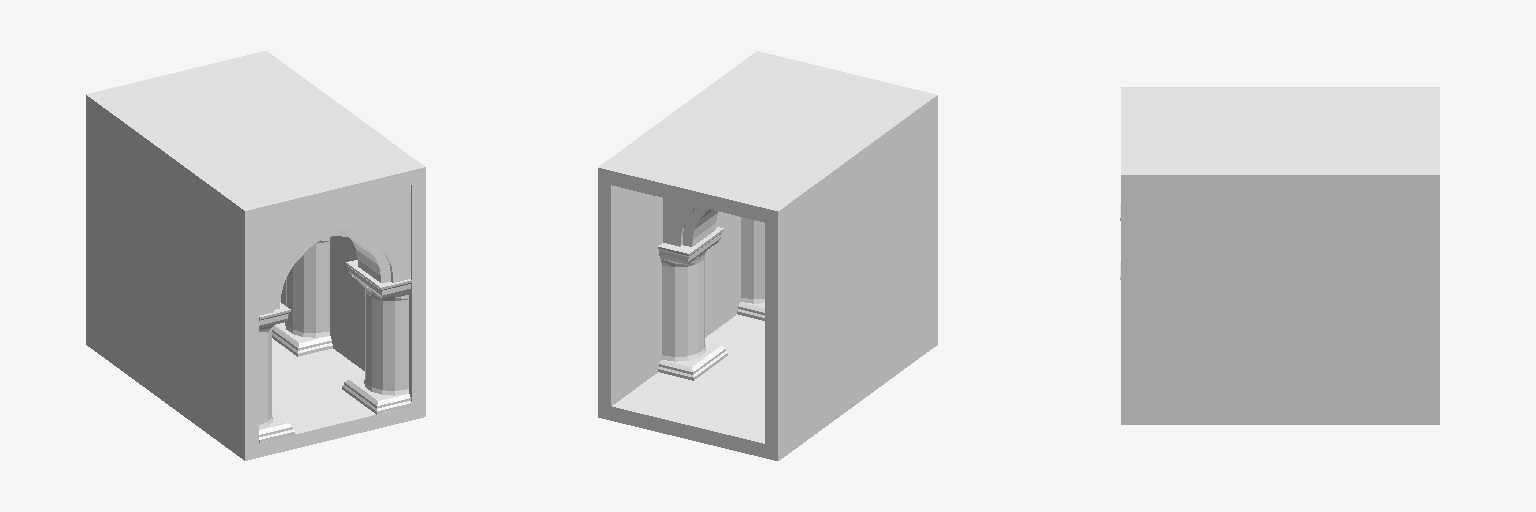
File: templepieceA.obj
3 renders of one model, left to right at view 1: azimuth 30°, elevation 25°; view 2: azimuth 150°, elevation 25°; view 3: azimuth 270°, elevation 25°, orthographic.
Parts seen in each view (by area): view 1: TemplePieceA; view 2: TemplePieceA; view 3: TemplePieceA.
Boxes of the visible parts, x1=… form: TemplePieceA: x1=86, y1=51, x2=425, y2=460; TemplePieceA: x1=598, y1=51, x2=937, y2=460; TemplePieceA: x1=1120, y1=87, x2=1439, y2=424.
Bounding box in the file's own units: 217 × 287 × 332.